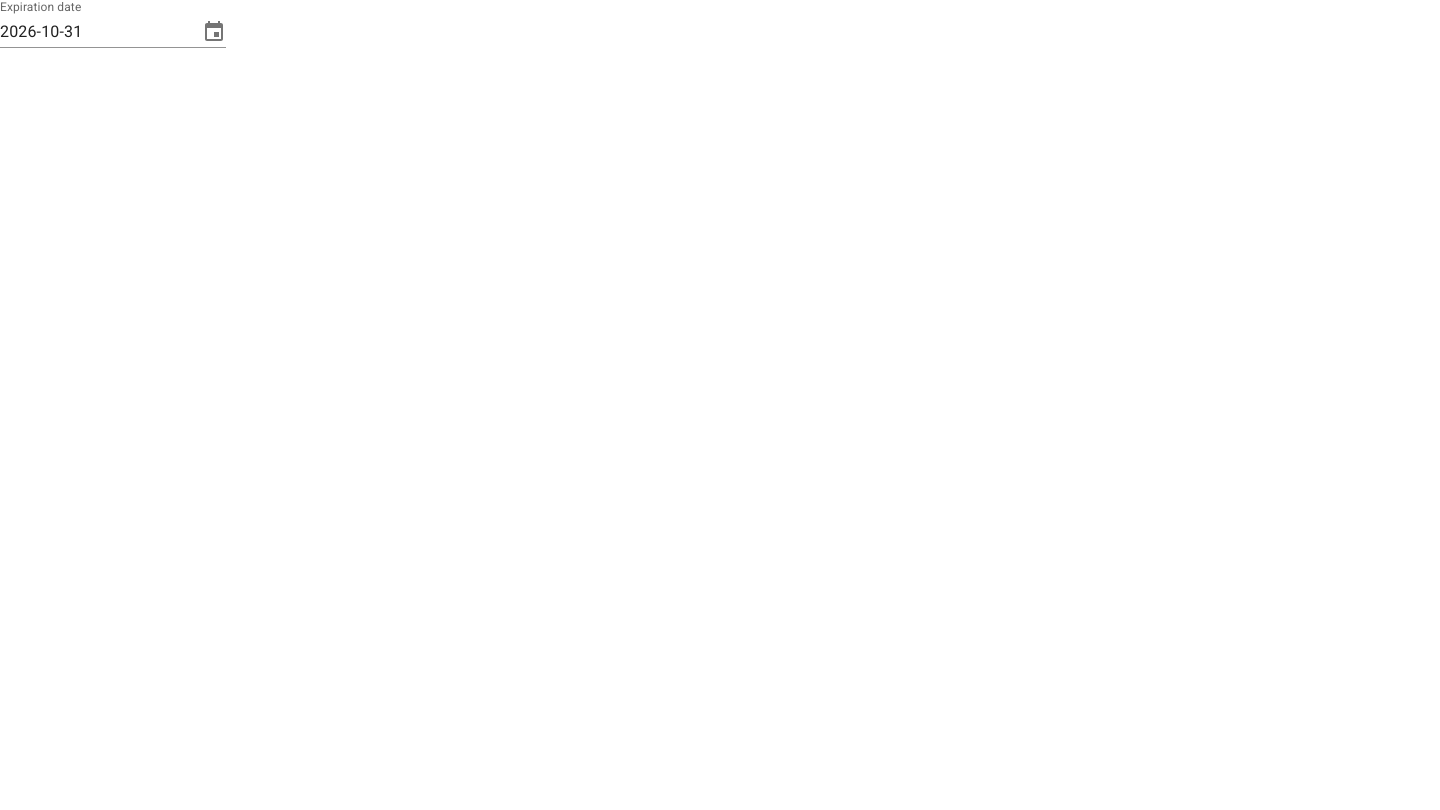
Test: dates before today are disabled in the picker
Step 1. Click the button named "choose date" → (214,32), box [190,8,238,56]
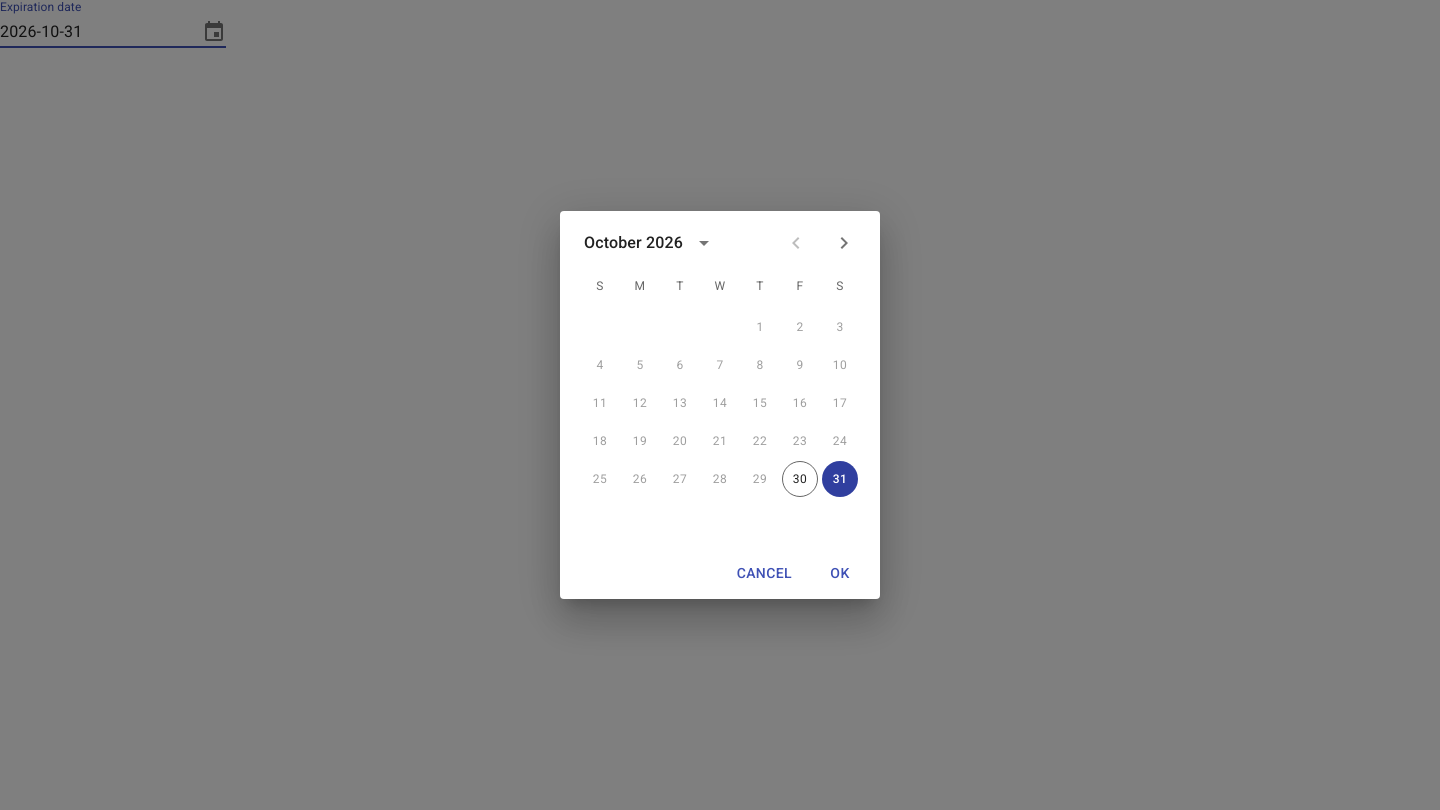
Result: the cell "29" is disabled at [742,461,778,497]
